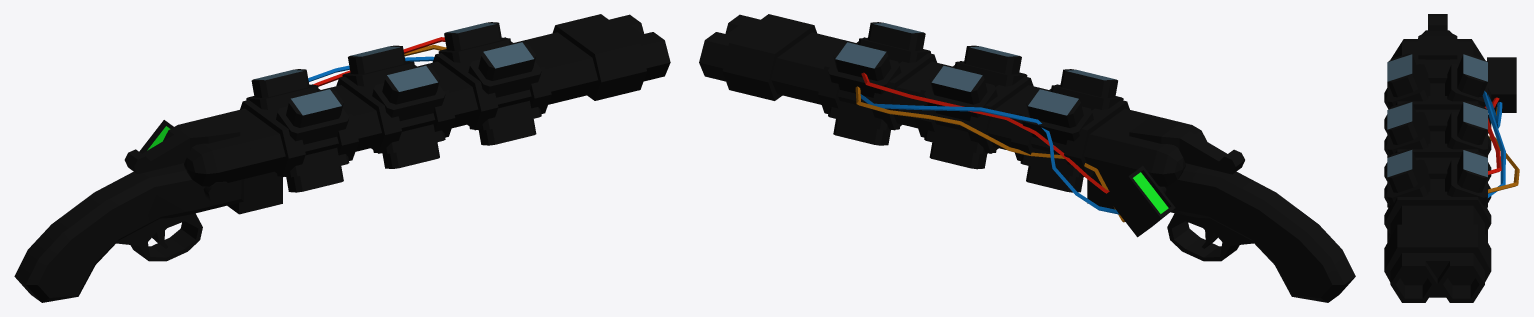
Rendered from weapon_scyfi_shotgun.fbx.
3 views of the same model, side by side, from view 1: azimuth 30°, elevation 25°; view 2: azimuth 150°, elevation 25°; view 3: azimuth 270°, elevation 25° (orthographic).
Visible parts, largest first — view 1: barrel, handle, wires, prop; view 2: barrel, handle, wires, prop; view 3: barrel, handle, prop, wires.
Part boxes in pixels (x1,y1,x2,y2): barrel: [214, 14, 670, 214]; handle: [14, 116, 254, 302]; wires: [308, 37, 446, 86]; prop: [139, 120, 230, 203]; barrel: [699, 14, 1155, 209]; handle: [1115, 116, 1355, 302]; wires: [855, 72, 1124, 222]; prop: [1105, 166, 1175, 237]; barrel: [1384, 53, 1491, 302]; handle: [1390, 14, 1484, 59]; prop: [1487, 57, 1516, 112]; wires: [1482, 91, 1519, 197].
Bounding box in the file's own units: 75.44 × 17.57 × 13.87.
